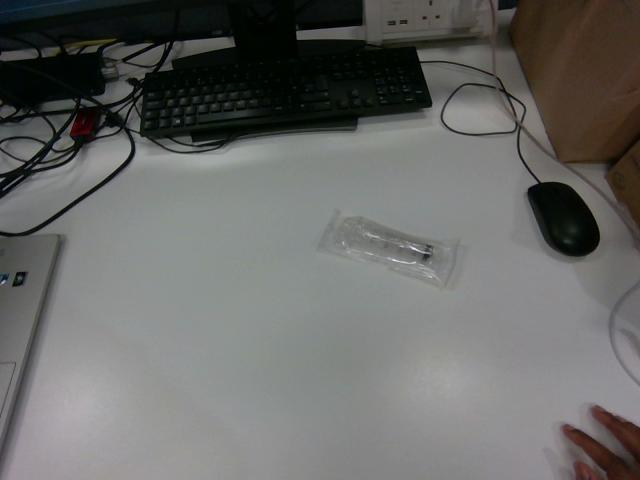syringe: (317, 210, 458, 287)
